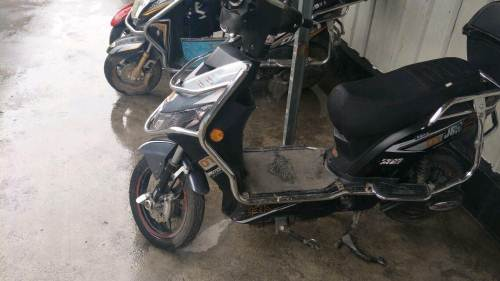电动车: (126, 1, 500, 265), (102, 1, 352, 100)
